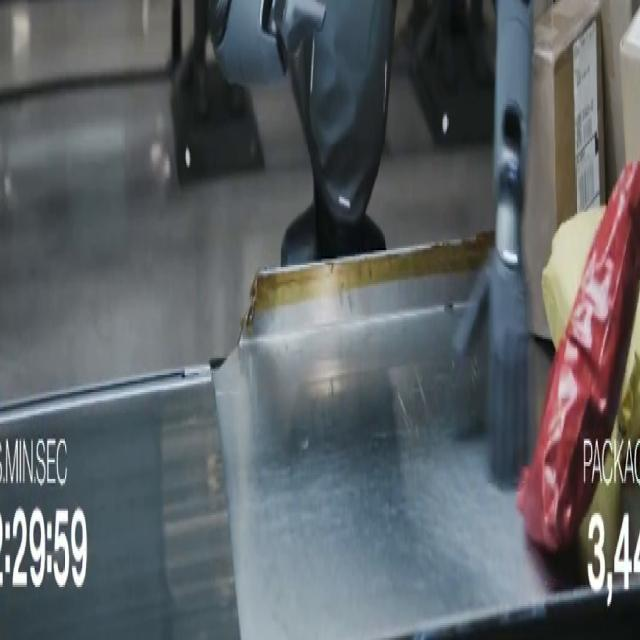package: (517, 164, 639, 550), (523, 0, 605, 339), (542, 206, 604, 347), (579, 452, 639, 570), (601, 0, 633, 197), (621, 11, 639, 161), (619, 354, 639, 453)
